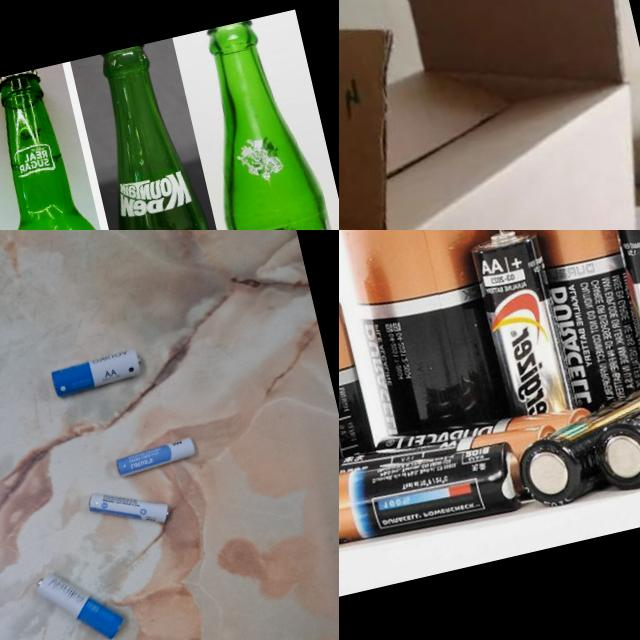bateria: (339, 230, 540, 447), (490, 230, 640, 411), (339, 430, 525, 562), (464, 230, 582, 426), (507, 382, 640, 513), (339, 276, 387, 539), (30, 556, 129, 640), (581, 362, 640, 495), (84, 474, 173, 540), (47, 344, 146, 400), (609, 230, 640, 397), (112, 434, 199, 481)
garrafa de vidro: (186, 12, 339, 230), (79, 39, 246, 230), (0, 63, 145, 230)
papelão: (339, 0, 640, 230)
